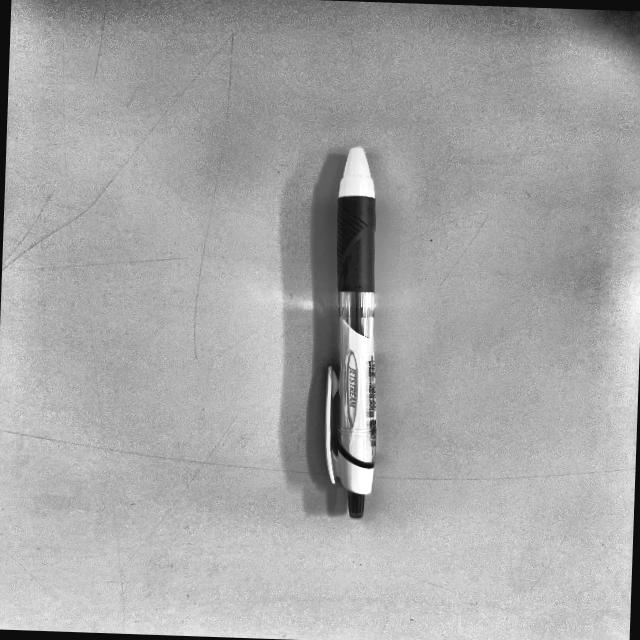Pen: (282, 140, 418, 534)
